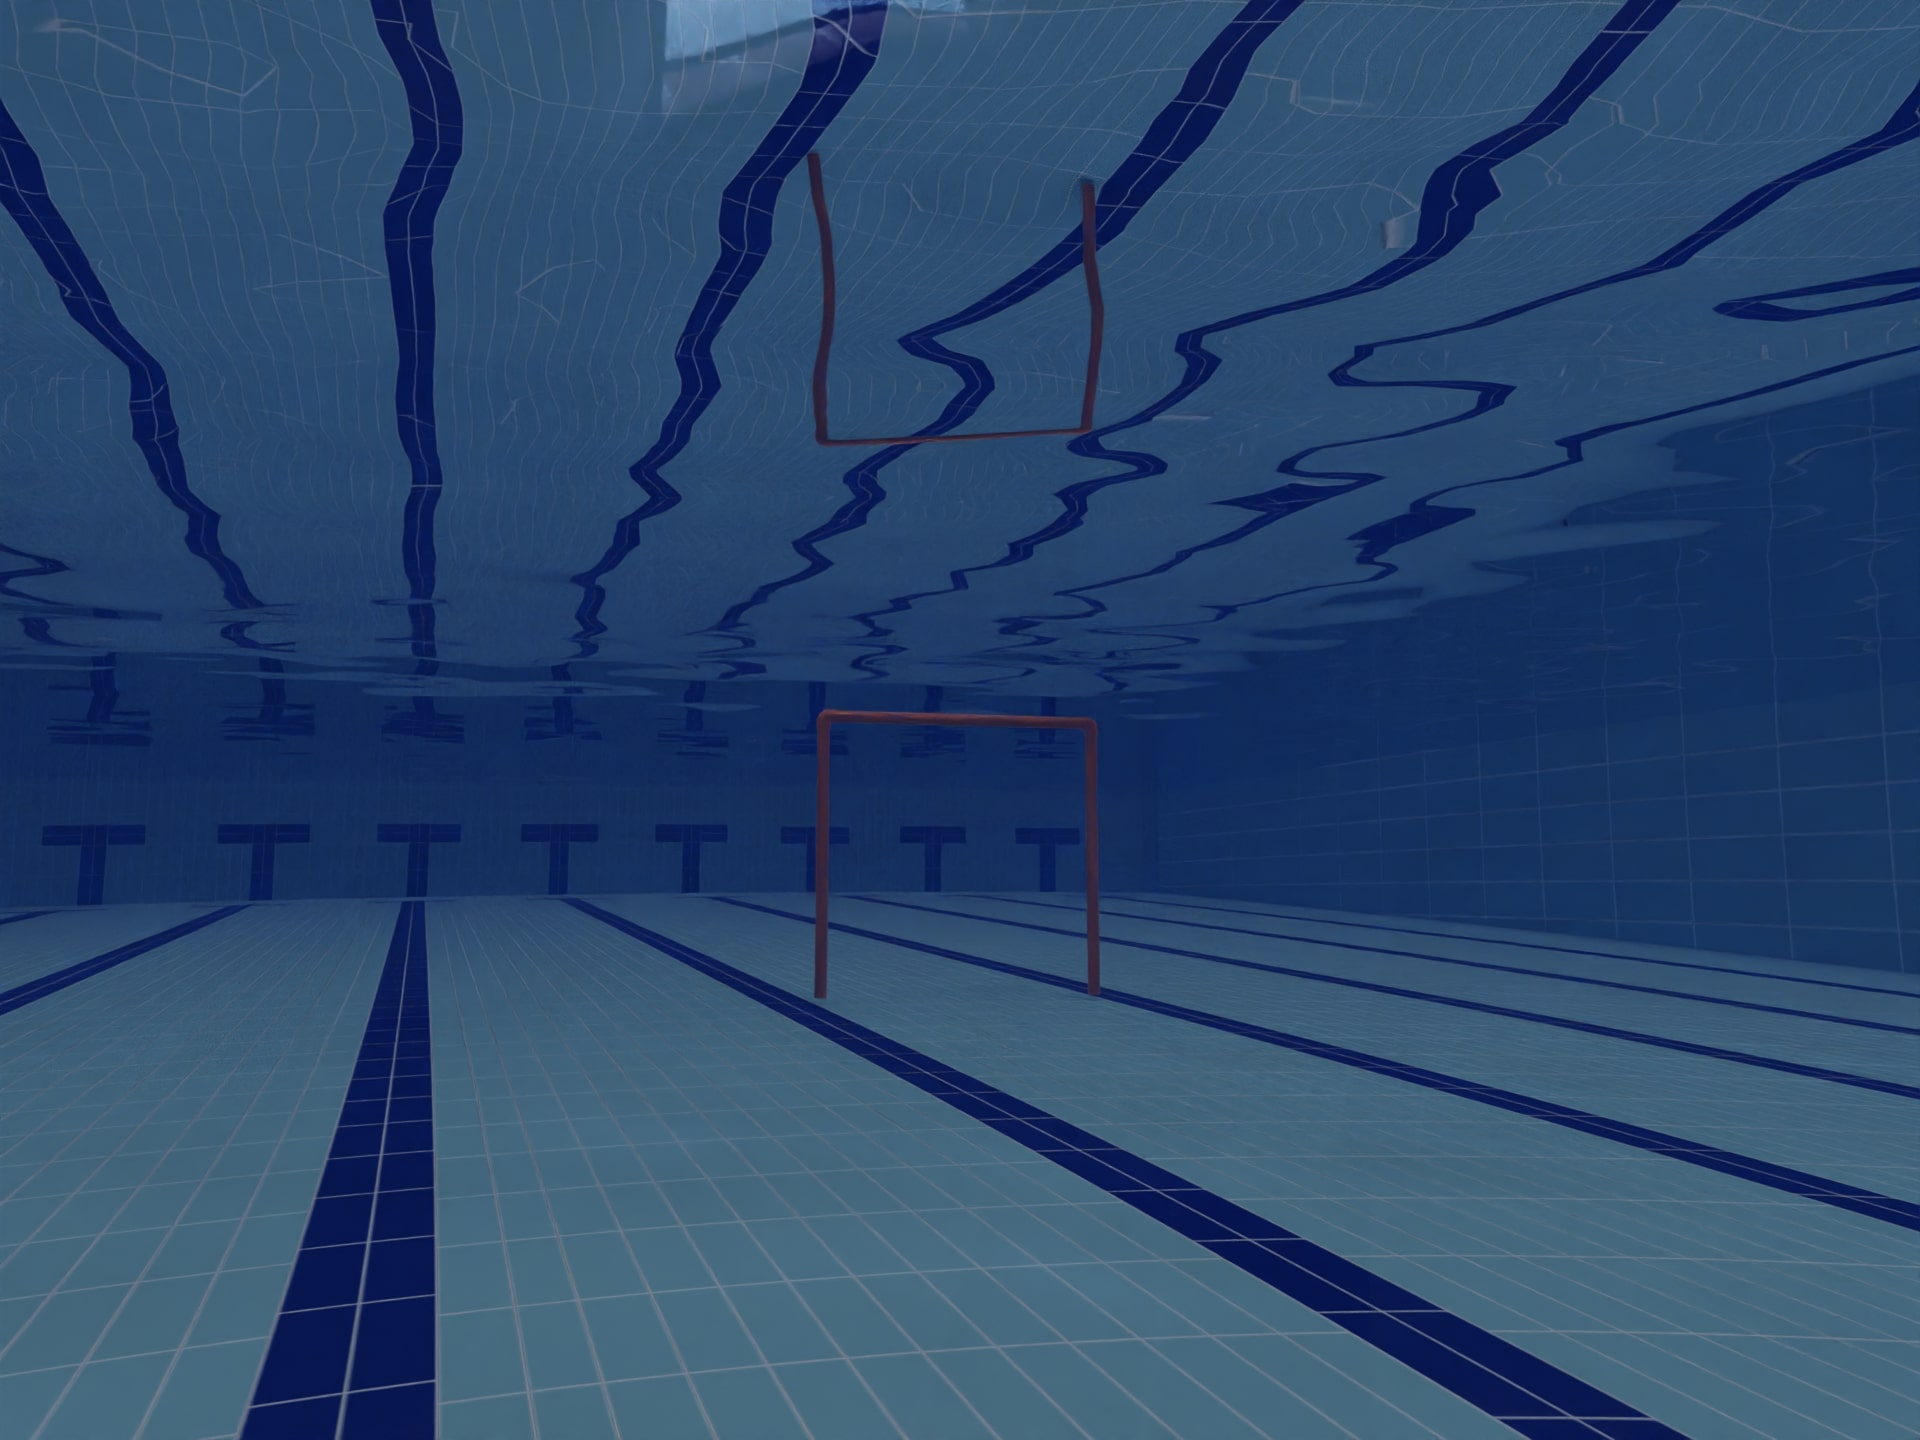gate: (788, 694, 1129, 1010)
